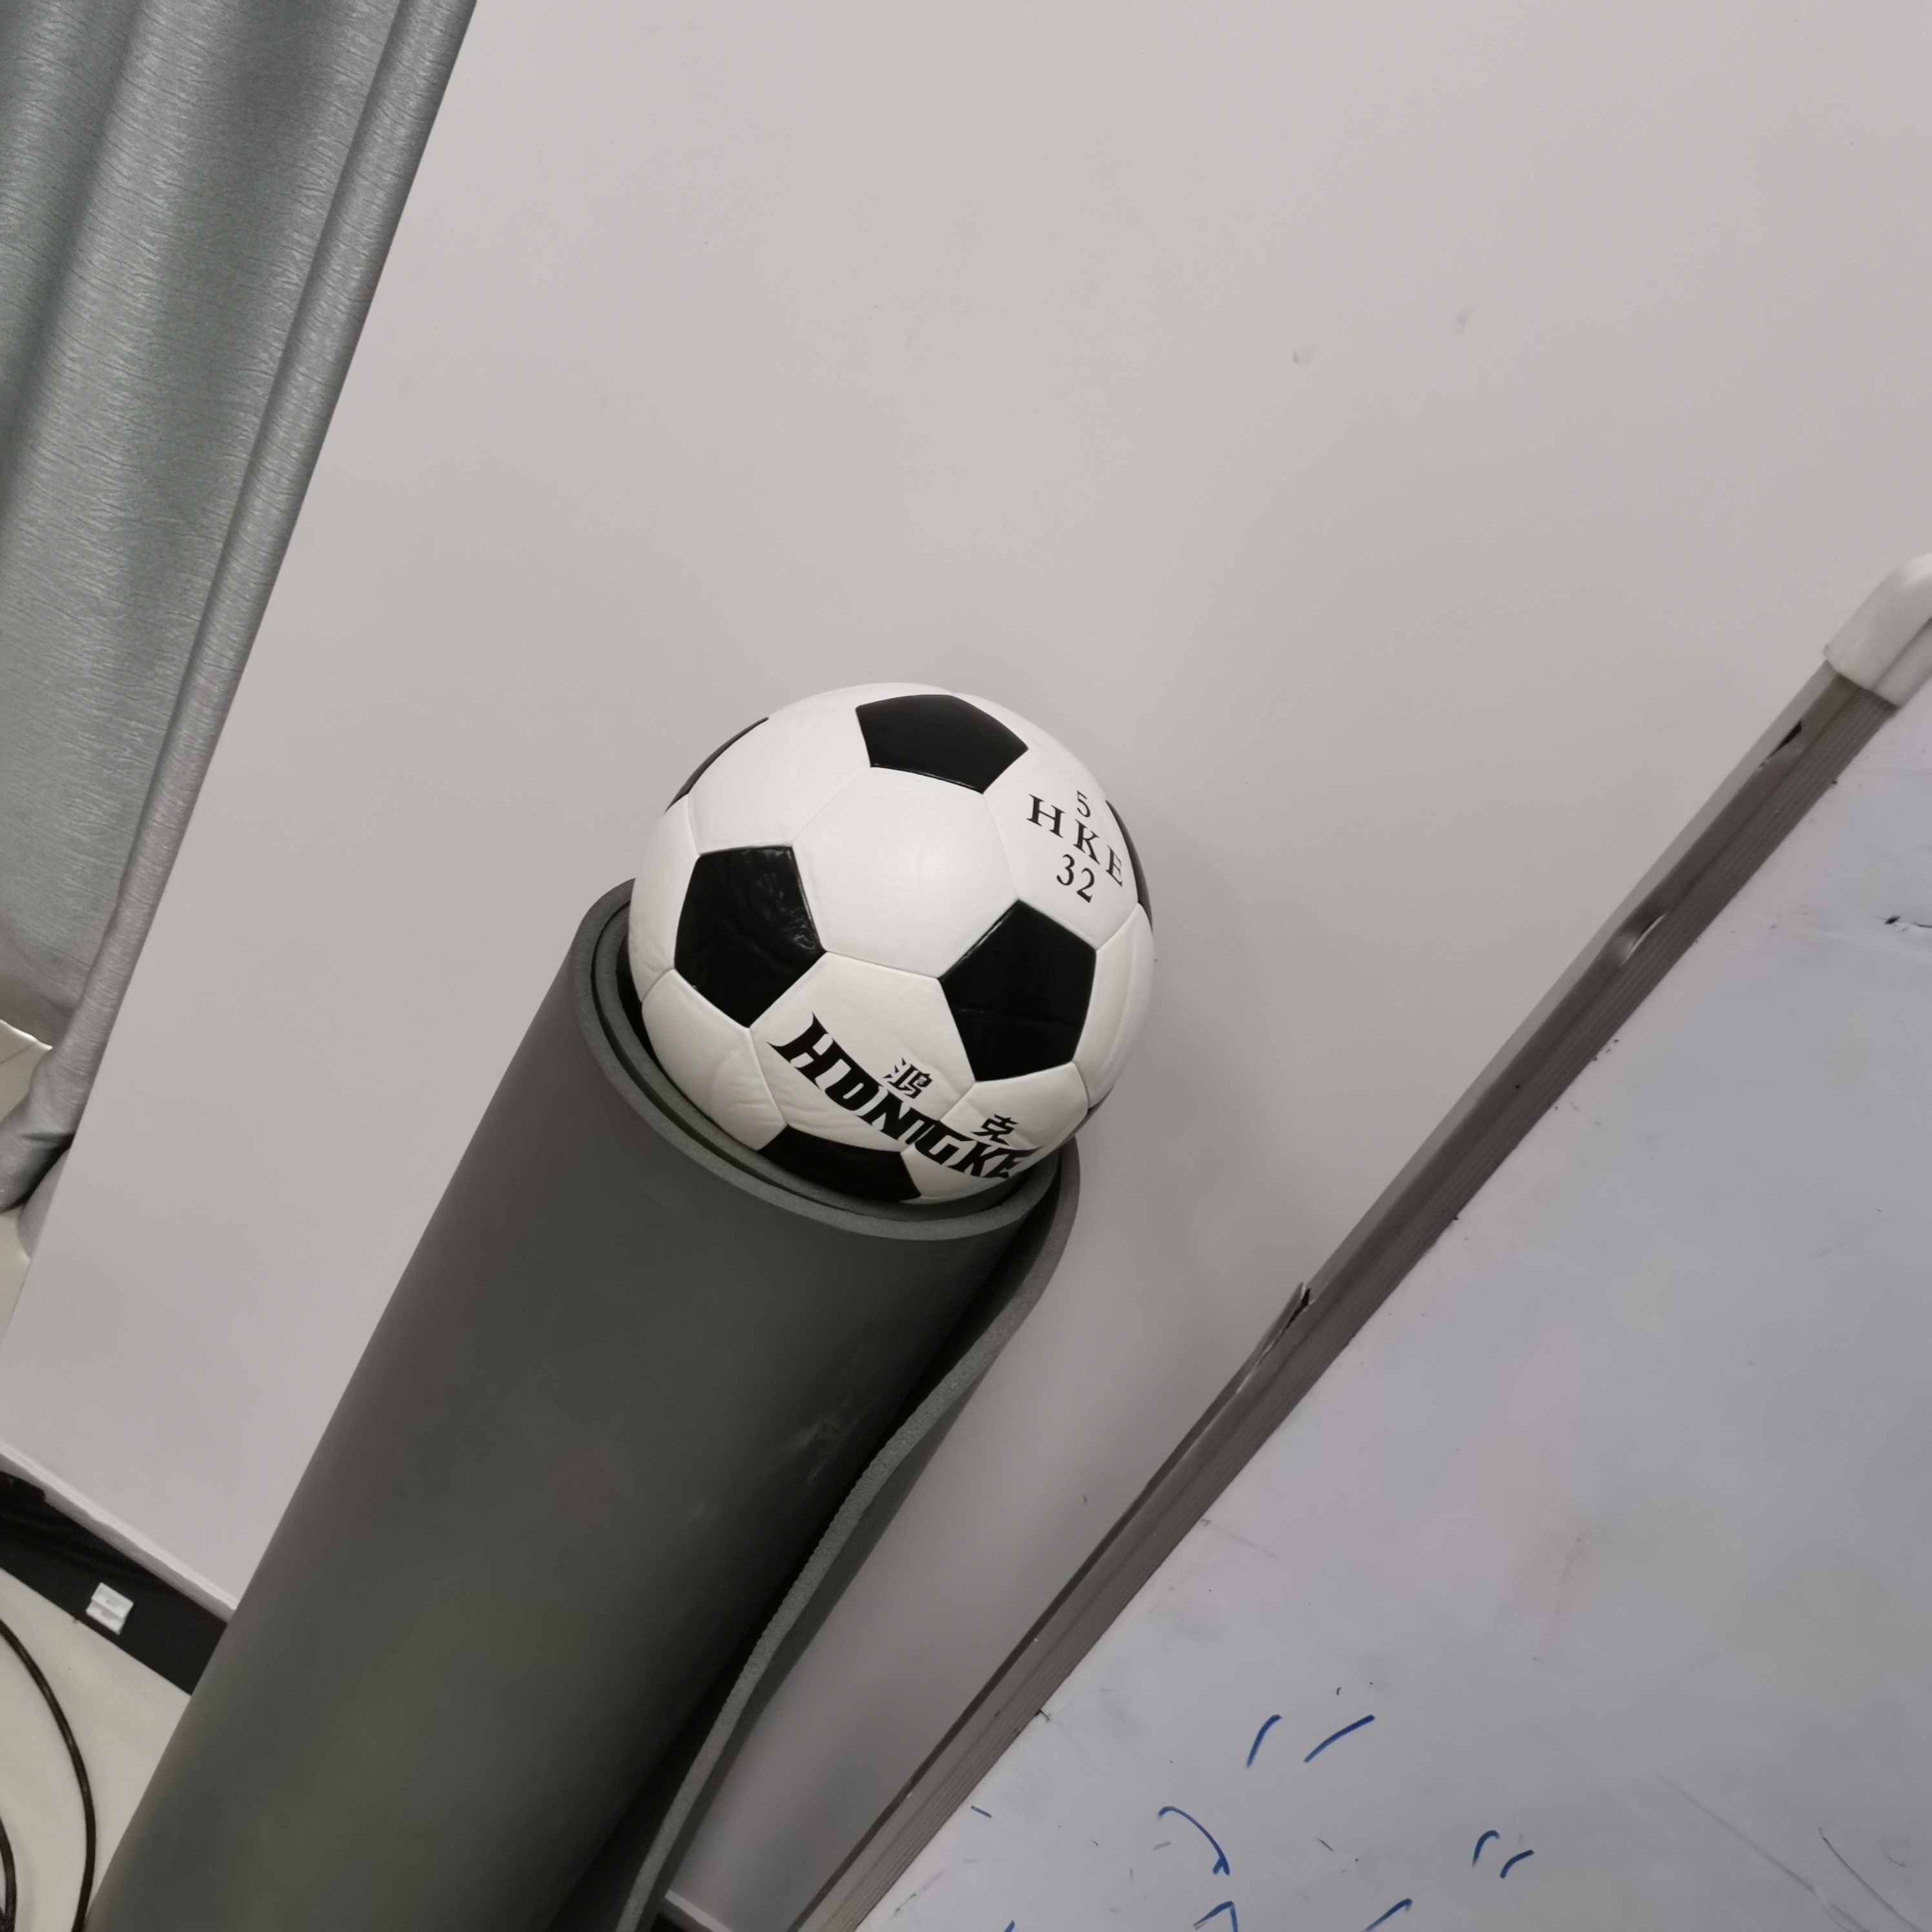football: (628, 685, 1157, 1207)
